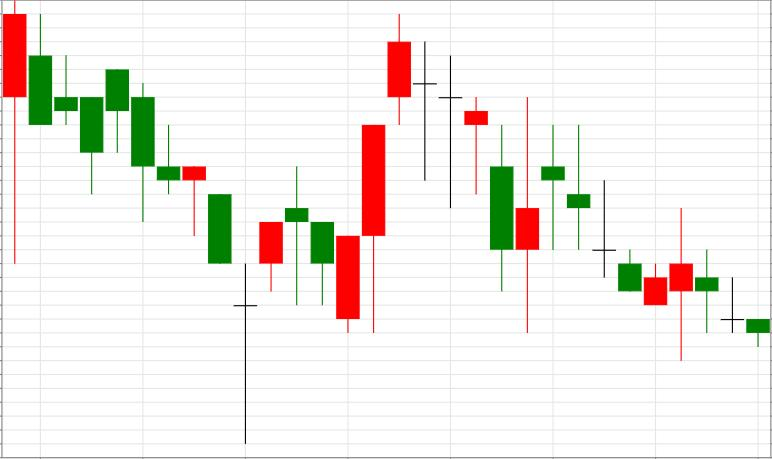morning_star_rise: (105, 70, 283, 444)
